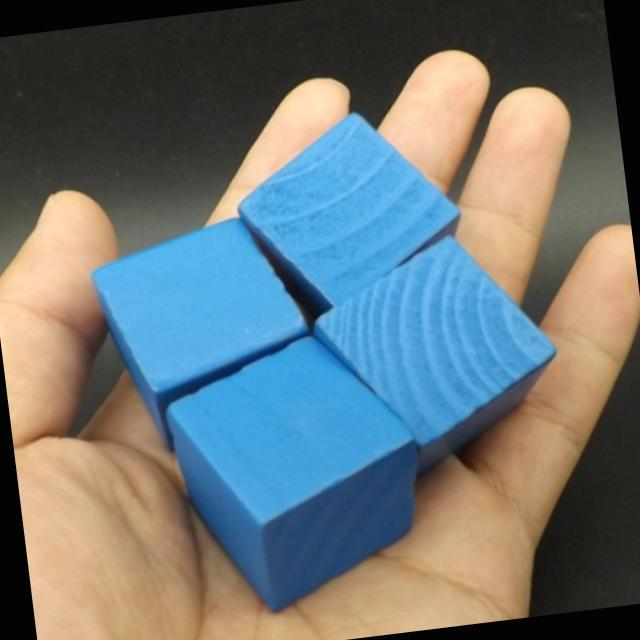bluecube: (167, 332, 414, 611), (312, 232, 558, 480), (92, 217, 310, 451), (237, 110, 461, 330)
